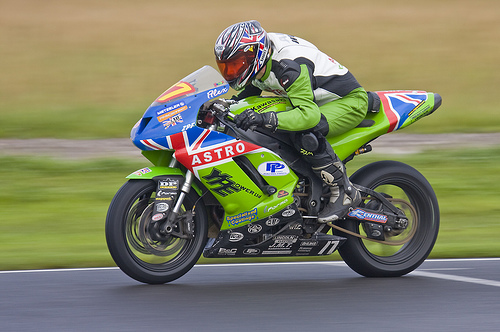helmet: (212, 22, 270, 79)
